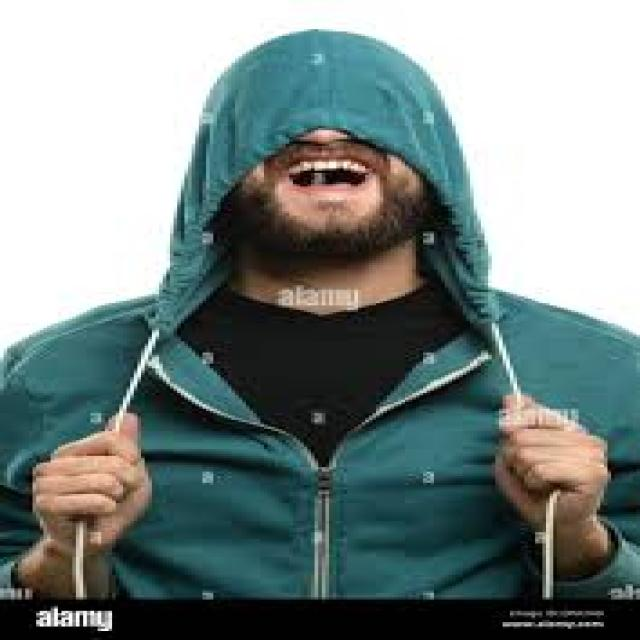4_capucha: (144, 25, 504, 341)
